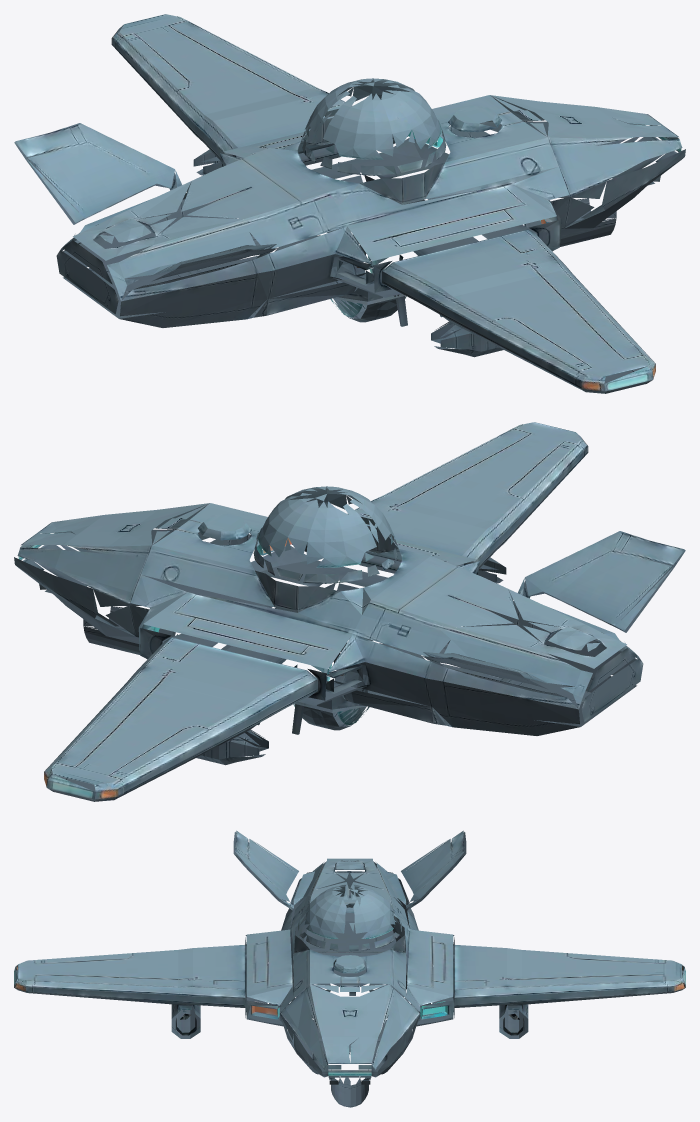
Rendered from overseer_LOD2.glb.
3 renders of one model, top to bottom at view 1: azimuth 30°, elevation 25°; view 2: azimuth 150°, elevation 25°; view 3: azimuth 270°, elevation 25°, orthographic. The views are drawn at different scales.
Visible parts, largest first — view 1: overseer_LOD2; view 2: overseer_LOD2; view 3: overseer_LOD2.
Boxes of the visible parts, <box> form: overseer_LOD2: <box>14,14,685,393</box>; overseer_LOD2: <box>14,422,685,801</box>; overseer_LOD2: <box>14,830,685,1107</box>.
Bounding box in the file's own units: 0.6843 × 0.26 × 0.9991.
Materials: 1 (1 with a texture image).
